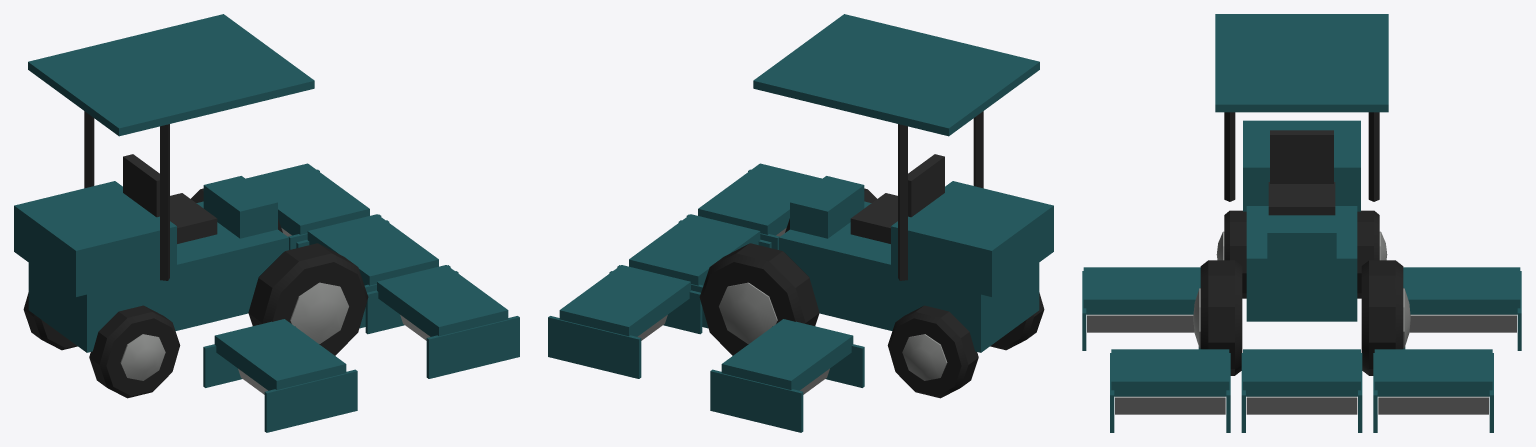
Rendered from SM_Prop_farm_mower_0_LOD1.glb.
3 renders of one model, left to right at view 1: azimuth 30°, elevation 25°; view 2: azimuth 150°, elevation 25°; view 3: azimuth 270°, elevation 25°, orthographic. The views are drawn at different scales.
Visible parts, largest first — view 1: SM_Prop_farm_mower_0_LOD1; view 2: SM_Prop_farm_mower_0_LOD1; view 3: SM_Prop_farm_mower_0_LOD1.
Part boxes in pixels (x1=…): SM_Prop_farm_mower_0_LOD1: x1=14, y1=14, x2=519, y2=432; SM_Prop_farm_mower_0_LOD1: x1=548, y1=14, x2=1053, y2=432; SM_Prop_farm_mower_0_LOD1: x1=1082, y1=14, x2=1521, y2=432.
Size of the model in its own units: 2.96 by 2.11 by 3.17.
